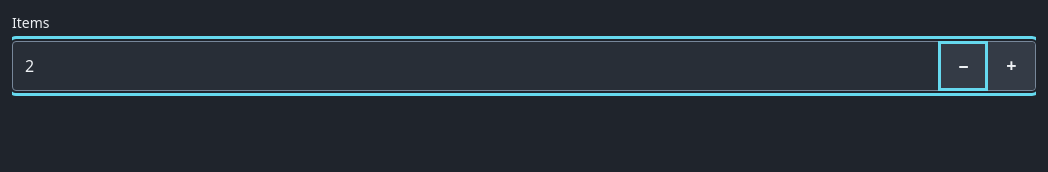
Scenario: NumberField › gives step buttons native button semantics and localized accessible names
This screenshot has width=1048, height=172.
Click the button named "Items Remove one": (963, 66) [939,42,987,90]
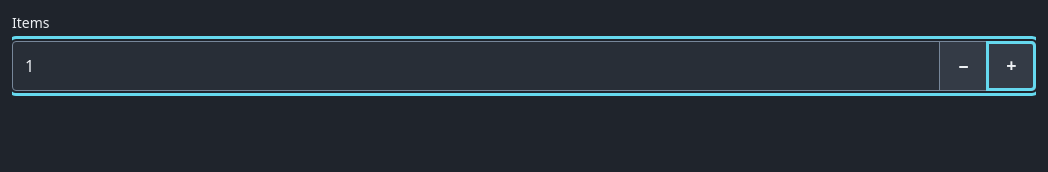
Check: the number field labelled "Items" holds "1", box [13,42,939,90]
Click the button named "Items Add one": (1011, 66) [987,42,1035,90]
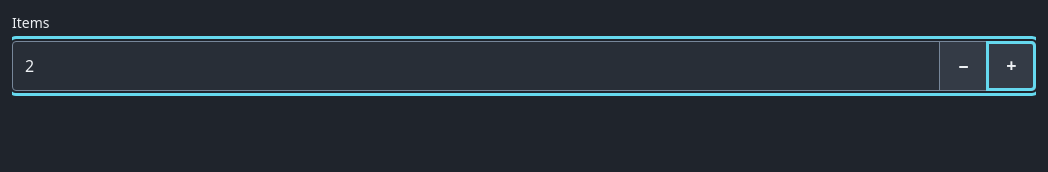
Check: the number field labelled "Items" holds "2", box [13,42,939,90]
